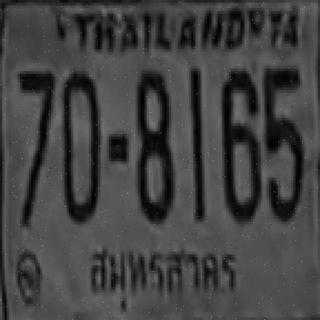N05: (262, 66, 302, 153)
N06: (220, 68, 260, 219)
N07: (18, 70, 53, 160)
N08: (136, 68, 171, 222)
P58: (83, 242, 242, 312)
